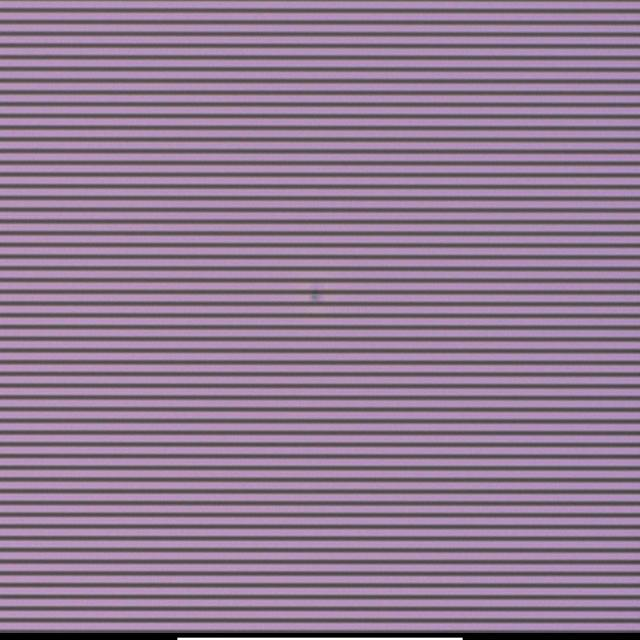03_intrusion: (305, 283, 324, 308)
